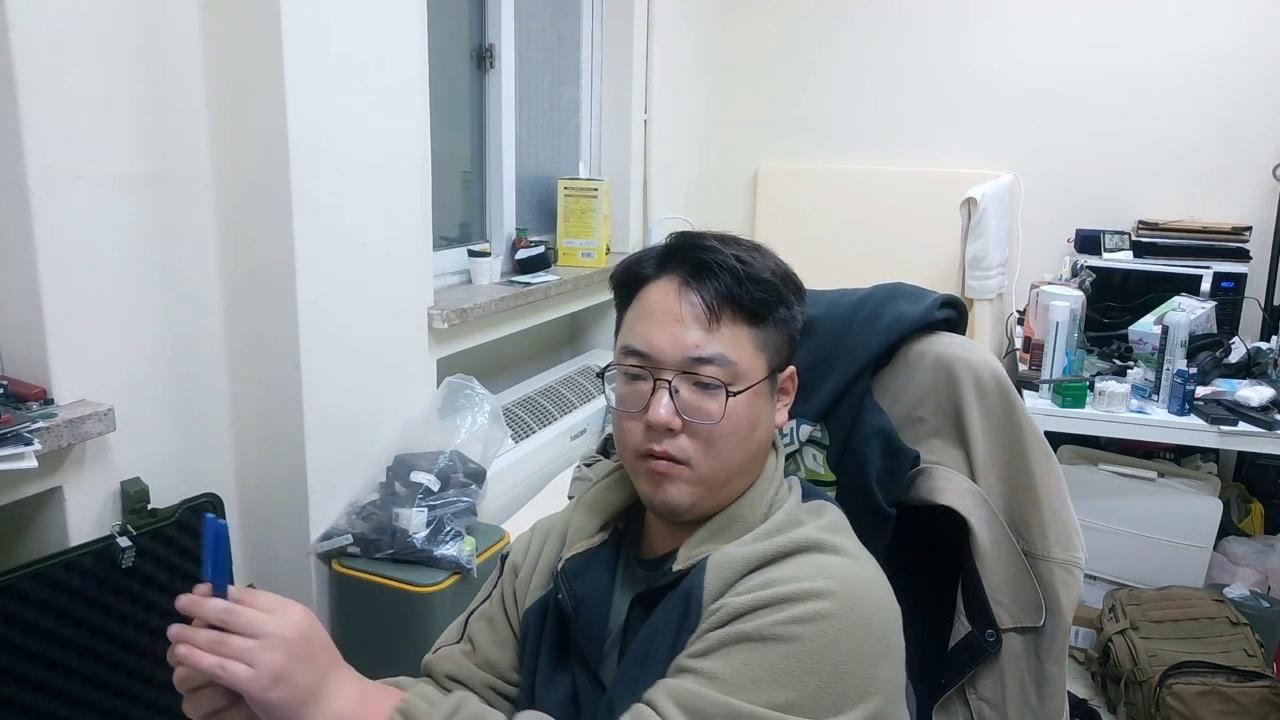blue_pliers: (200, 512, 236, 602)
